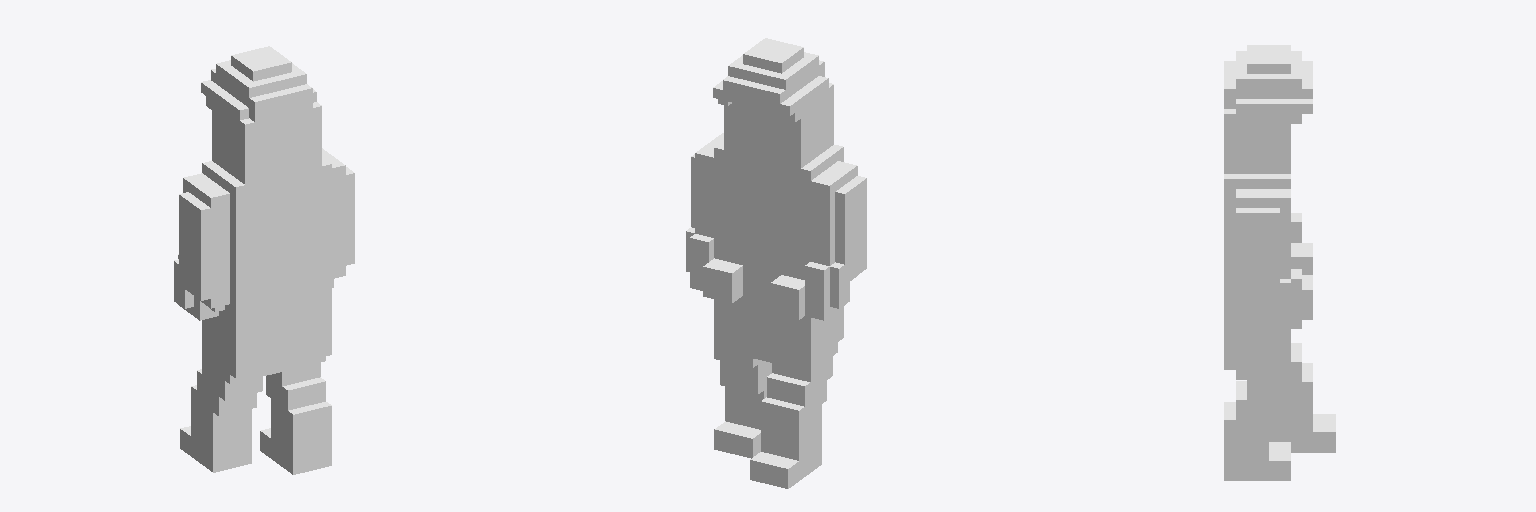
File: person-2.obj
3 renders of one model, left to right at view 1: azimuth 30°, elevation 25°; view 2: azimuth 150°, elevation 25°; view 3: azimuth 270°, elevation 25°, orthographic.
Visible parts, largest first — view 1: object 1; view 2: object 1; view 3: object 1.
Boxes of the visible parts, box(x1,y1,x2,y2) form: object 1: box(174, 46, 354, 474); object 1: box(686, 38, 866, 488); object 1: box(1224, 45, 1335, 480).
Bounding box in the file's own units: 1.6 × 4 × 1.